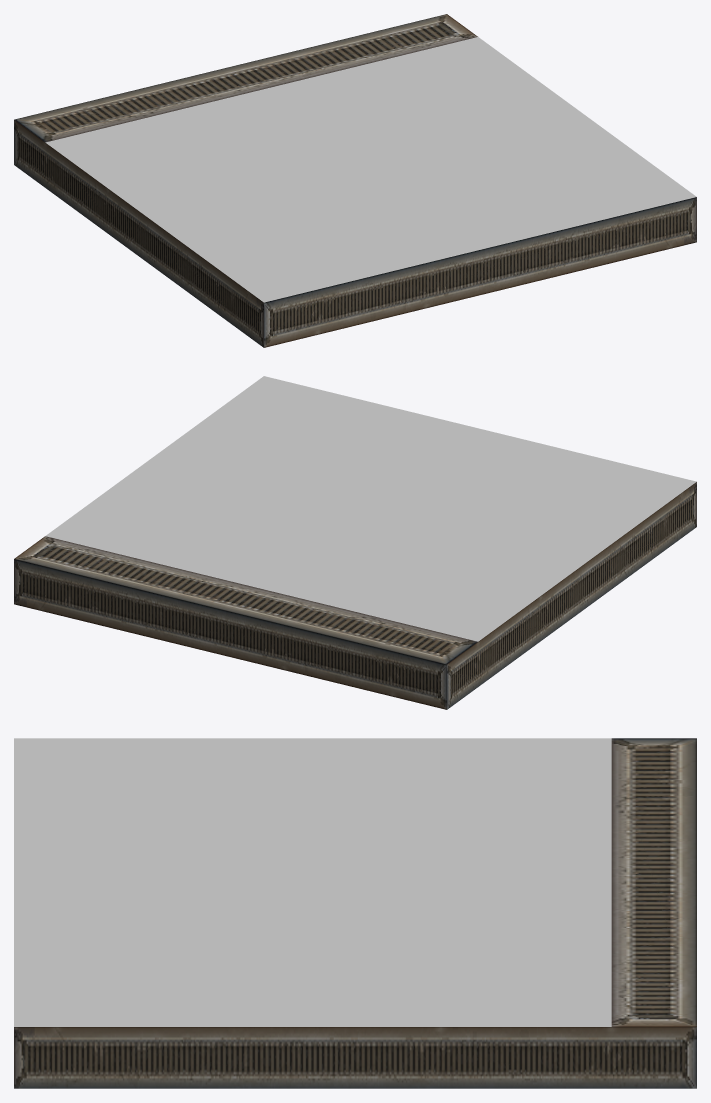
Rendered from scifi_floor_mosaic_13.FBX.
The picture shows the model from 3 angles, top to bottom: view 1: azimuth 30°, elevation 25°; view 2: azimuth 150°, elevation 25°; view 3: azimuth 270°, elevation 25°; orthographic projection. The views are drawn at different scales.
Parts seen in each view (by area): view 1: Plane145; view 2: Plane145; view 3: Plane145.
Part boxes in pixels (<box>): Plane145: <box>14,14,696,347</box>; Plane145: <box>14,376,696,709</box>; Plane145: <box>14,738,696,1088</box>.
Size of the model in its own units: 254 by 25.4 by 254.
